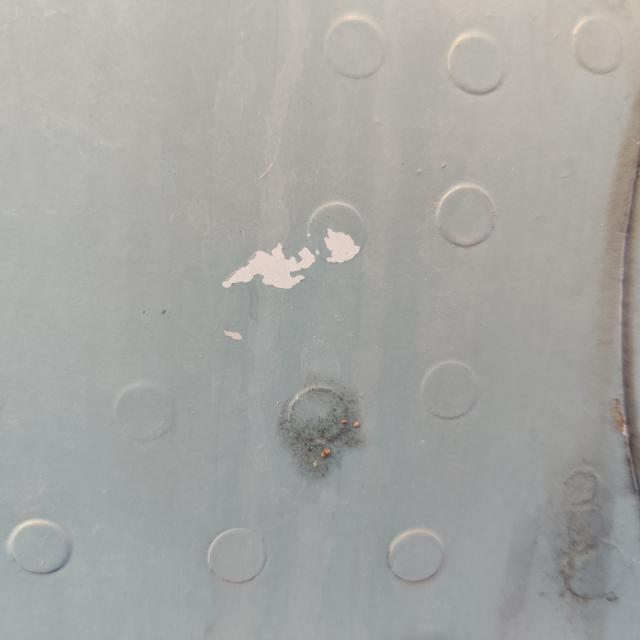paint-off: (205, 211, 375, 307)
